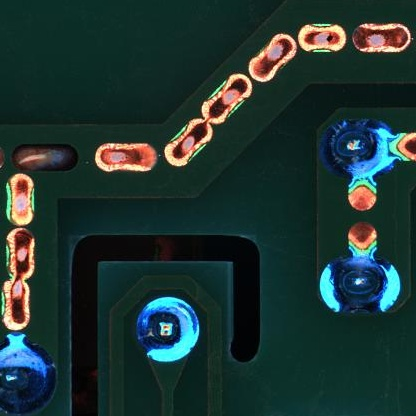spot: (320, 256, 401, 314), (320, 118, 396, 177), (1, 345, 58, 416), (136, 296, 199, 358)
